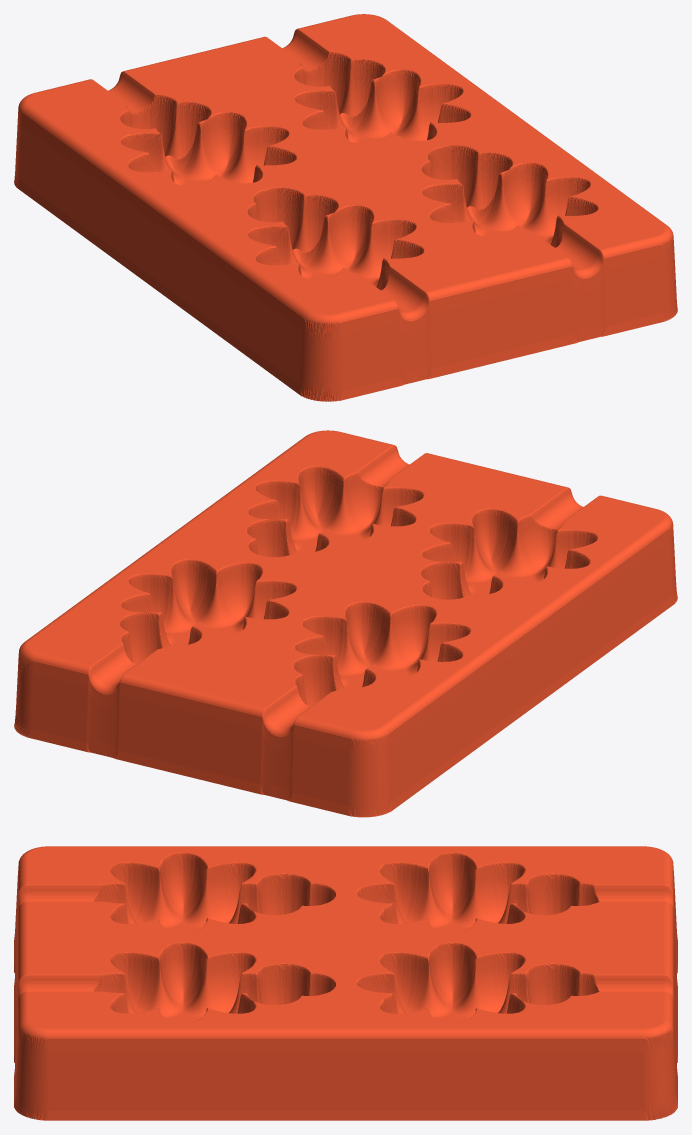
File: mold.glb
3 renders of one model, top to bottom at view 1: azimuth 30°, elevation 25°; view 2: azimuth 150°, elevation 25°; view 3: azimuth 270°, elevation 25°, orthographic. The views are drawn at different scales.
Visible parts, largest first — view 1: geometry_0; view 2: geometry_0; view 3: geometry_0.
Boxes of the visible parts, bbox=[...] form: geometry_0: bbox=[14, 14, 677, 401]; geometry_0: bbox=[14, 430, 677, 817]; geometry_0: bbox=[14, 846, 677, 1120].
Bounding box in the file's own units: 0.1177 × 0.0245 × 0.171.
